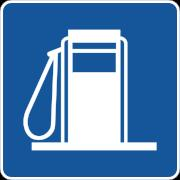Petrol Pump- Gas Station: (15, 9, 165, 167)
